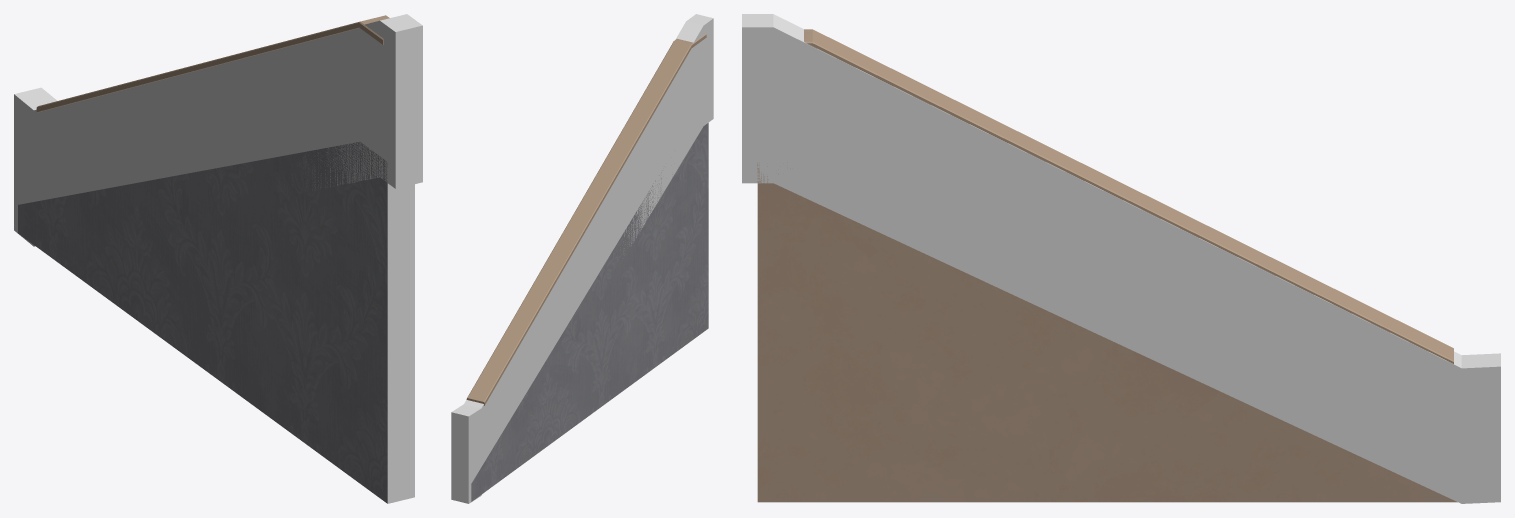
Rendered from LeftStairRail.fbx.
3 views of the same model, side by side, from view 1: azimuth 30°, elevation 25°; view 2: azimuth 150°, elevation 25°; view 3: azimuth 270°, elevation 25° (orthographic). The views are drawn at different scales.
Parts seen in each view (by area): view 1: Cube (1); view 2: Cube (1); view 3: Cube (1).
Part boxes in pixels (x1=…): Cube (1): x1=14, y1=14, x2=422, y2=503; Cube (1): x1=451, y1=14, x2=713, y2=503; Cube (1): x1=742, y1=14, x2=1500, y2=503.
Bounding box in the file's own units: 104 × 1681 × 2425.
